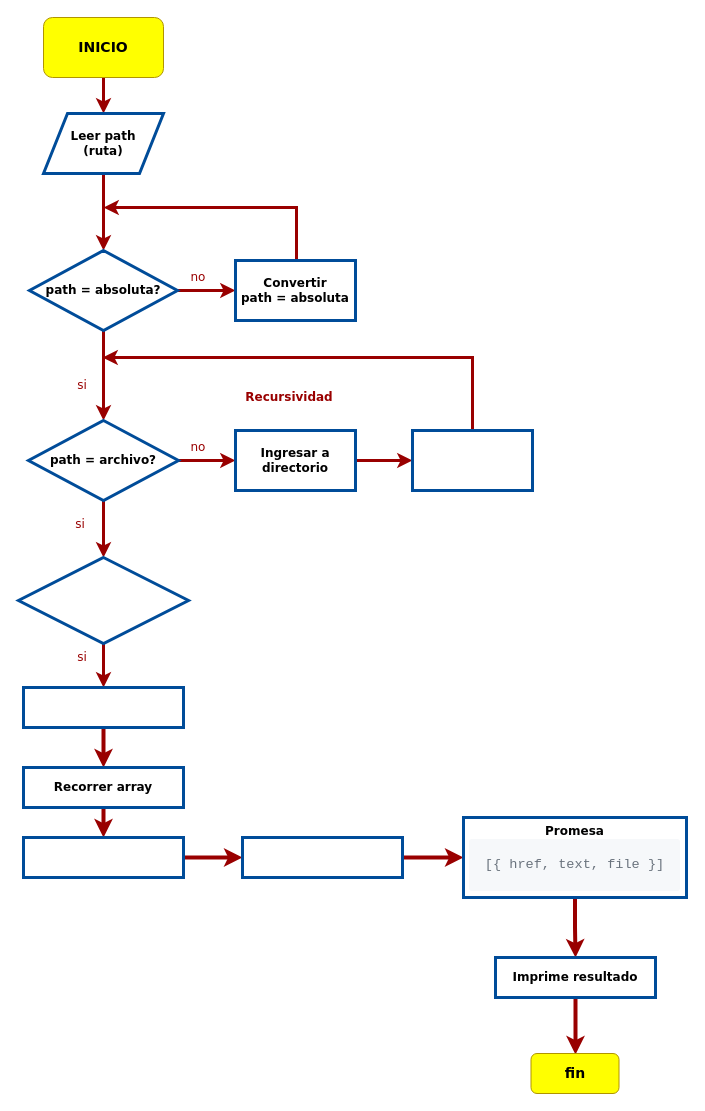
Image size: 705x1111. Some labels were removed from this diagram. Each missing label, with the centre of its shape:
"archivo extensión .md ?" goes at pixel 103 600.
"array.push(archivo)" goes at pixel 103 707.
"Buscar Links arr.push(links)" goes at pixel 322 857.
"Leer archivo" goes at pixel 103 857.
"Recorrer directorio" goes at pixel 472 460.
